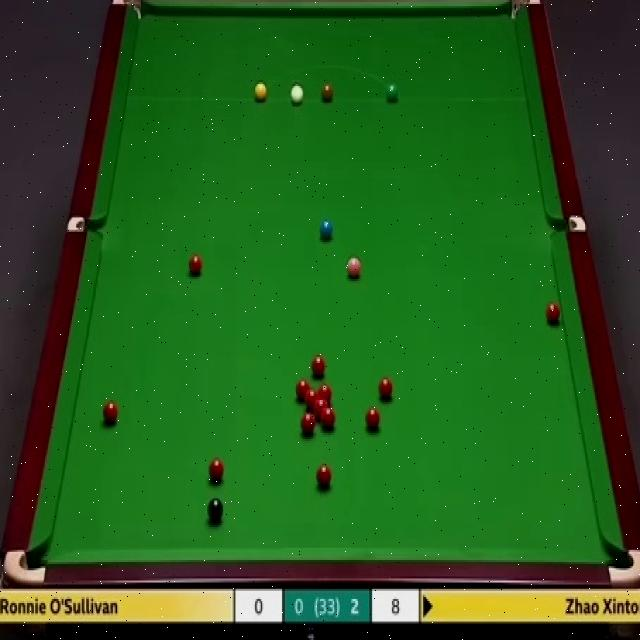black-ball: (208, 497, 225, 520)
blue-ball: (320, 218, 334, 244)
brown-ball: (320, 82, 334, 101)
green-ball: (386, 83, 399, 101)
pink-ball: (347, 258, 362, 281)
red-ball: (544, 301, 562, 327), (294, 376, 312, 402), (100, 398, 118, 424), (316, 463, 333, 490), (208, 457, 226, 482), (376, 377, 395, 400), (309, 355, 328, 377), (364, 407, 381, 431), (300, 411, 316, 436), (319, 409, 336, 431), (318, 384, 333, 408), (304, 389, 320, 411), (188, 256, 203, 275), (314, 400, 328, 417)
white-ball: (289, 84, 306, 105)
yellow-ball: (254, 82, 268, 101)
